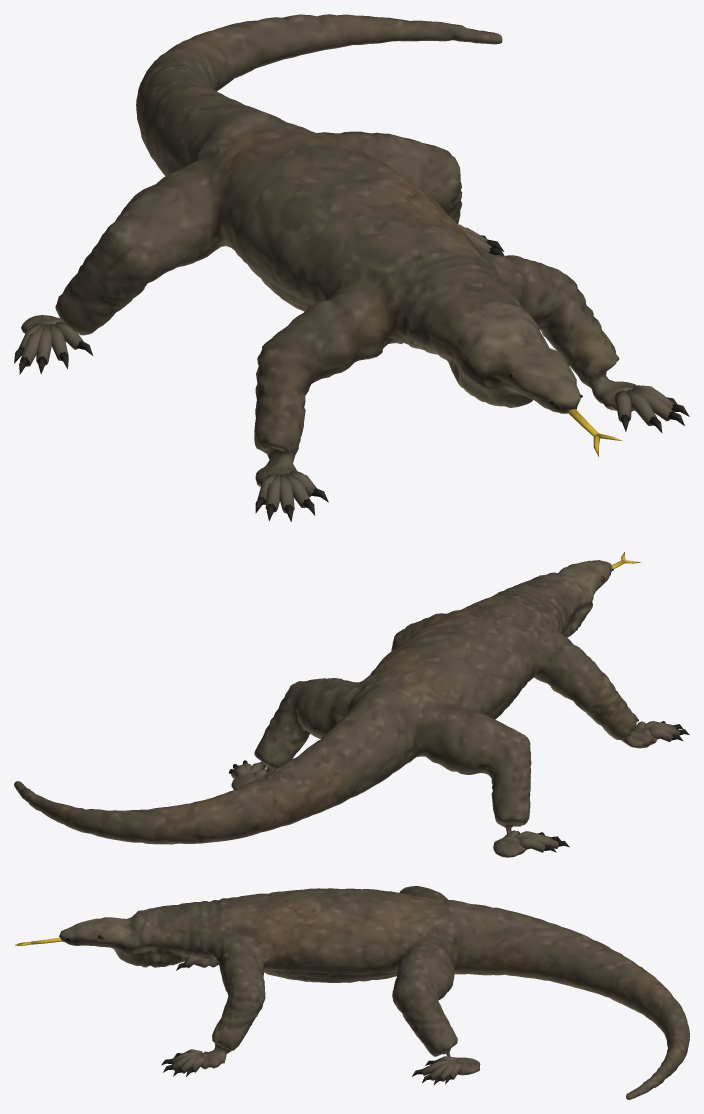
File: KomodoDragon.fbx
3 views of the same model, one above another, from view 1: azimuth 30°, elevation 25°; view 2: azimuth 150°, elevation 25°; view 3: azimuth 270°, elevation 25° (orthographic). The views are drawn at different scales.
Visible parts, largest first — view 1: KomodoDragon; view 2: KomodoDragon; view 3: KomodoDragon.
Boxes of the visible parts, x1=… form: KomodoDragon: x1=14, y1=14, x2=689, y2=521; KomodoDragon: x1=14, y1=552, x2=689, y2=857; KomodoDragon: x1=15, y1=886, x2=689, y2=1099.
Bounding box in the file's own units: 1.59 × 0.4671 × 2.37.
